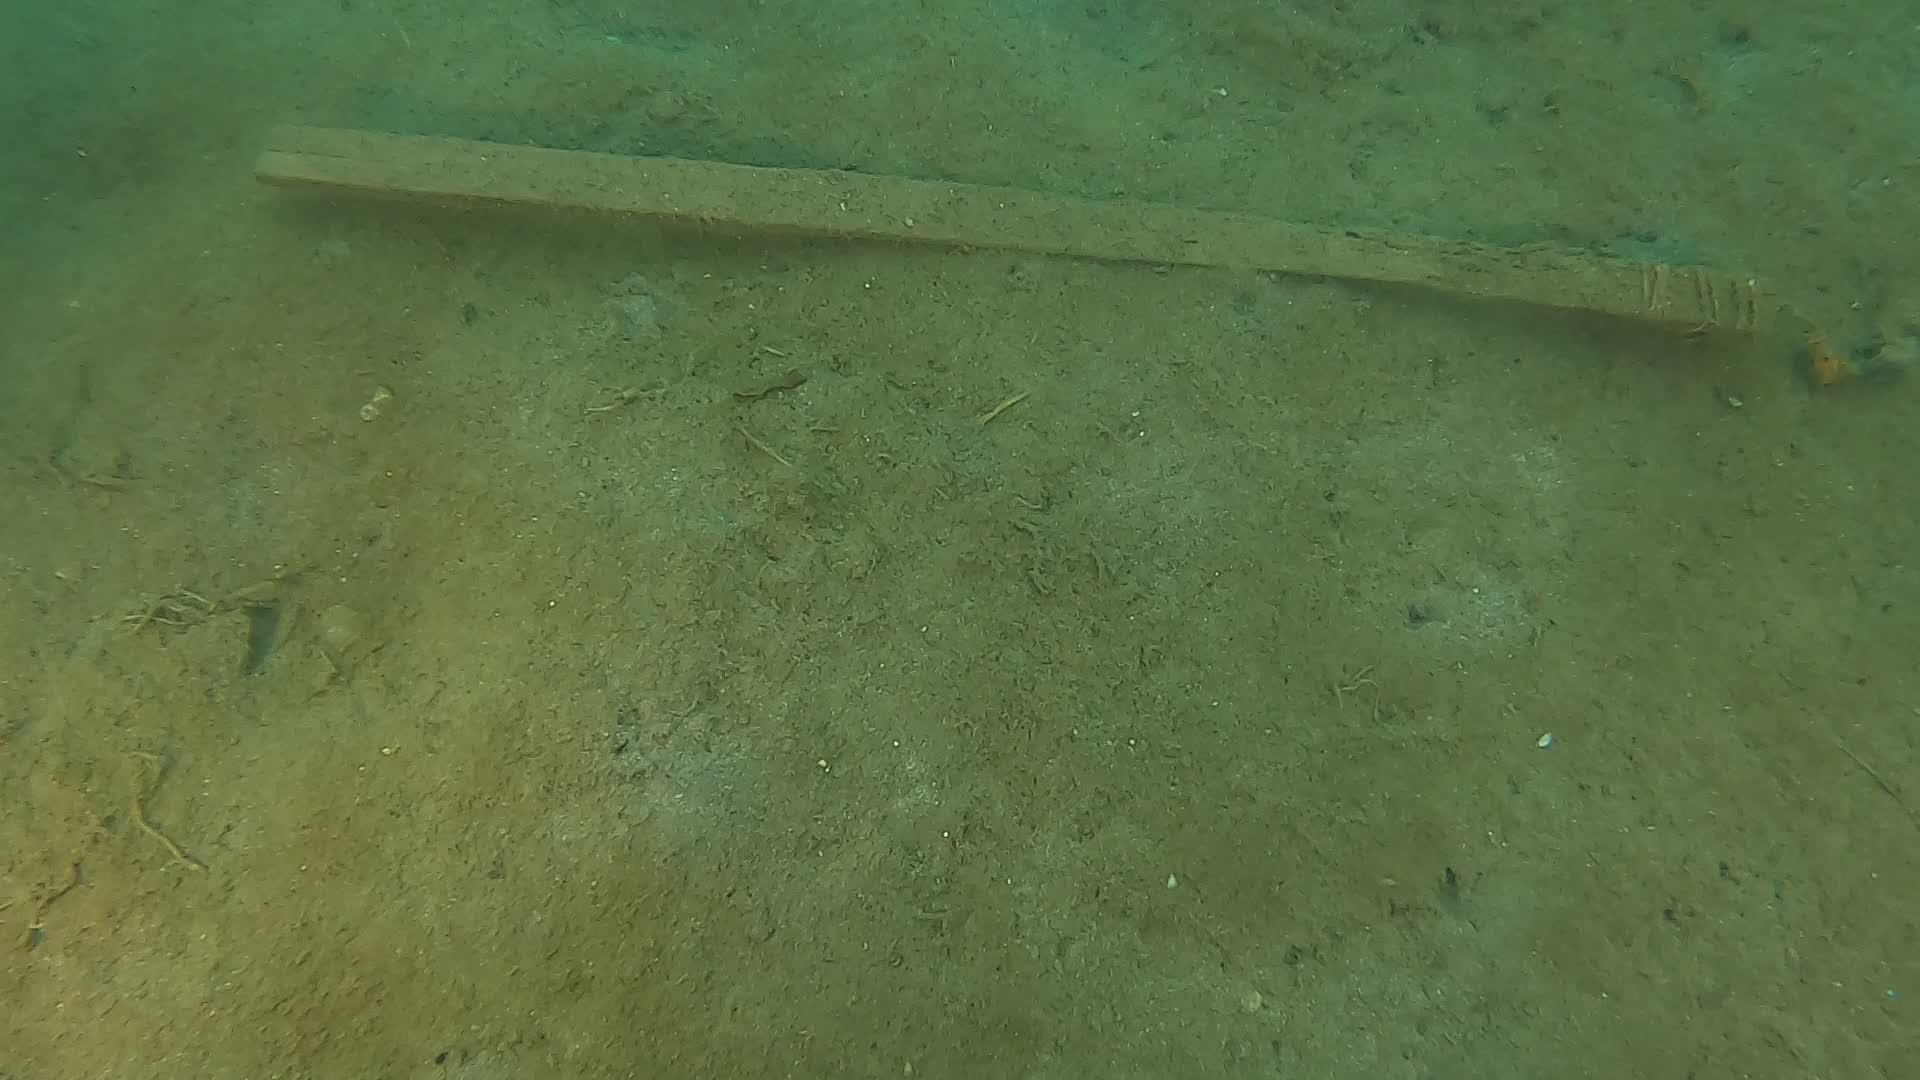wood: (251, 120, 1760, 335)
